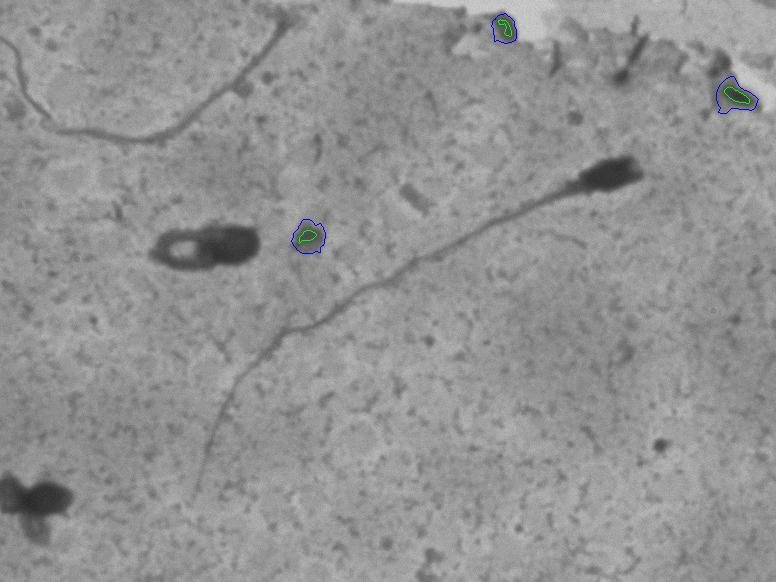Abnormal: (353, 129, 724, 524), (134, 204, 262, 299)
